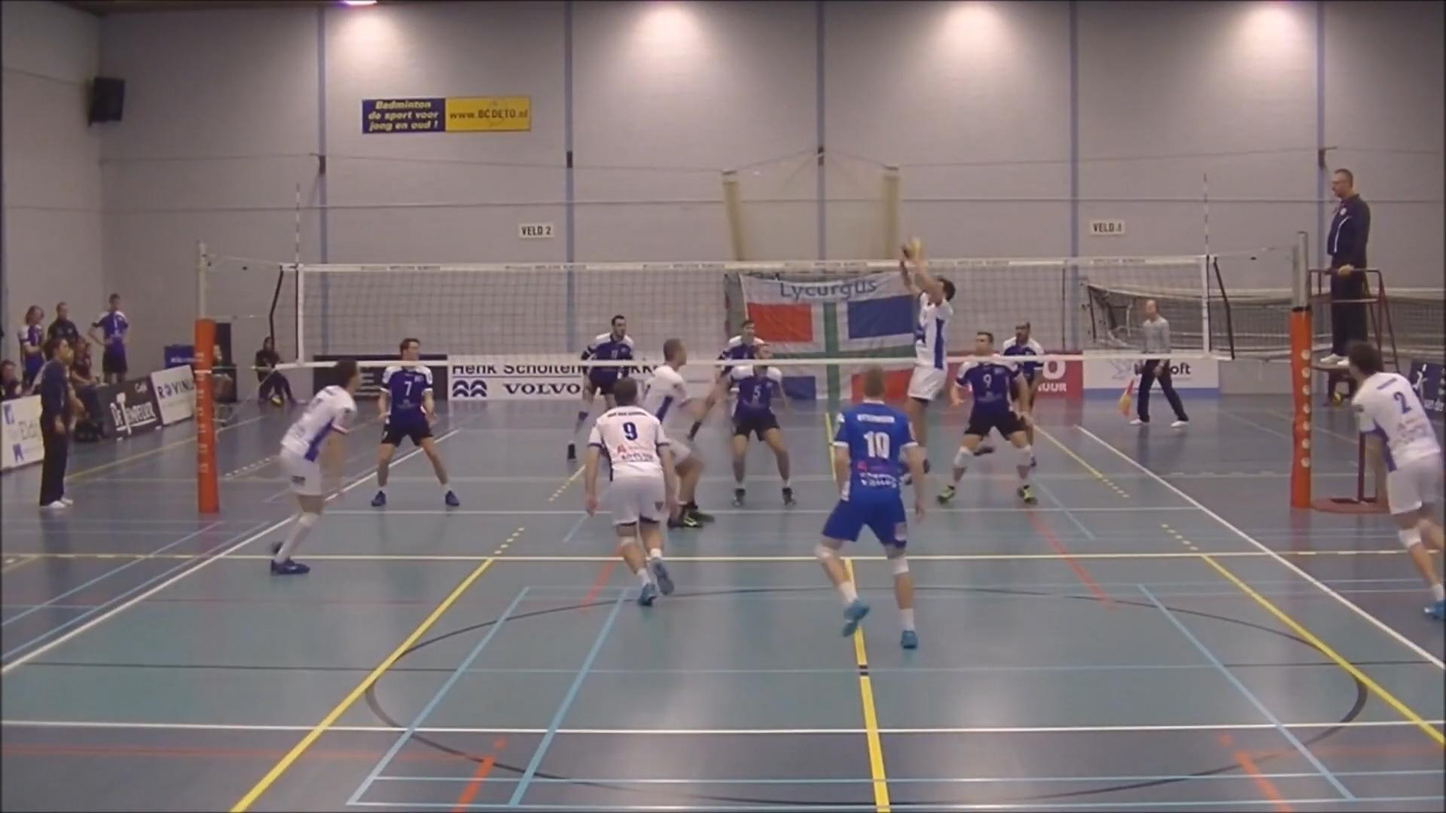Player: (1315, 332, 1442, 624), (816, 366, 925, 648), (584, 378, 679, 605), (270, 359, 360, 574), (938, 331, 1036, 504), (371, 337, 459, 507), (729, 343, 794, 506), (575, 315, 633, 438), (642, 338, 702, 436), (1001, 321, 1043, 406), (718, 319, 762, 362)
Set: (893, 243, 966, 489)
ball: (895, 231, 920, 263)
